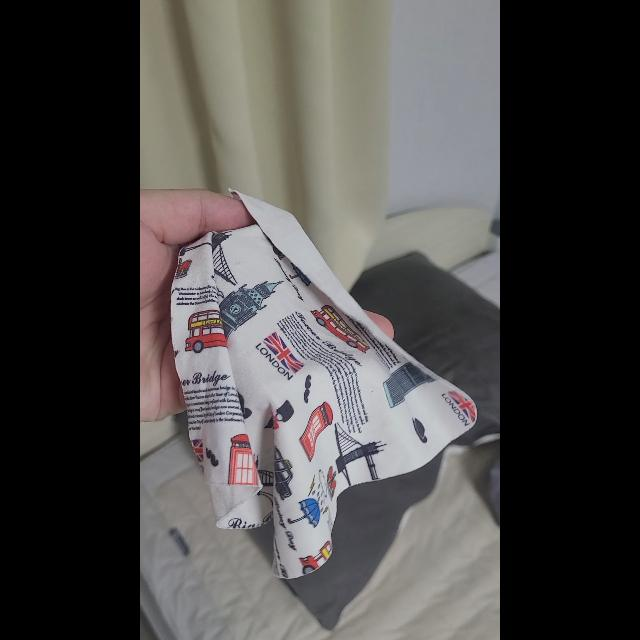Glasses cleaning cloth: (171, 189, 477, 579)
